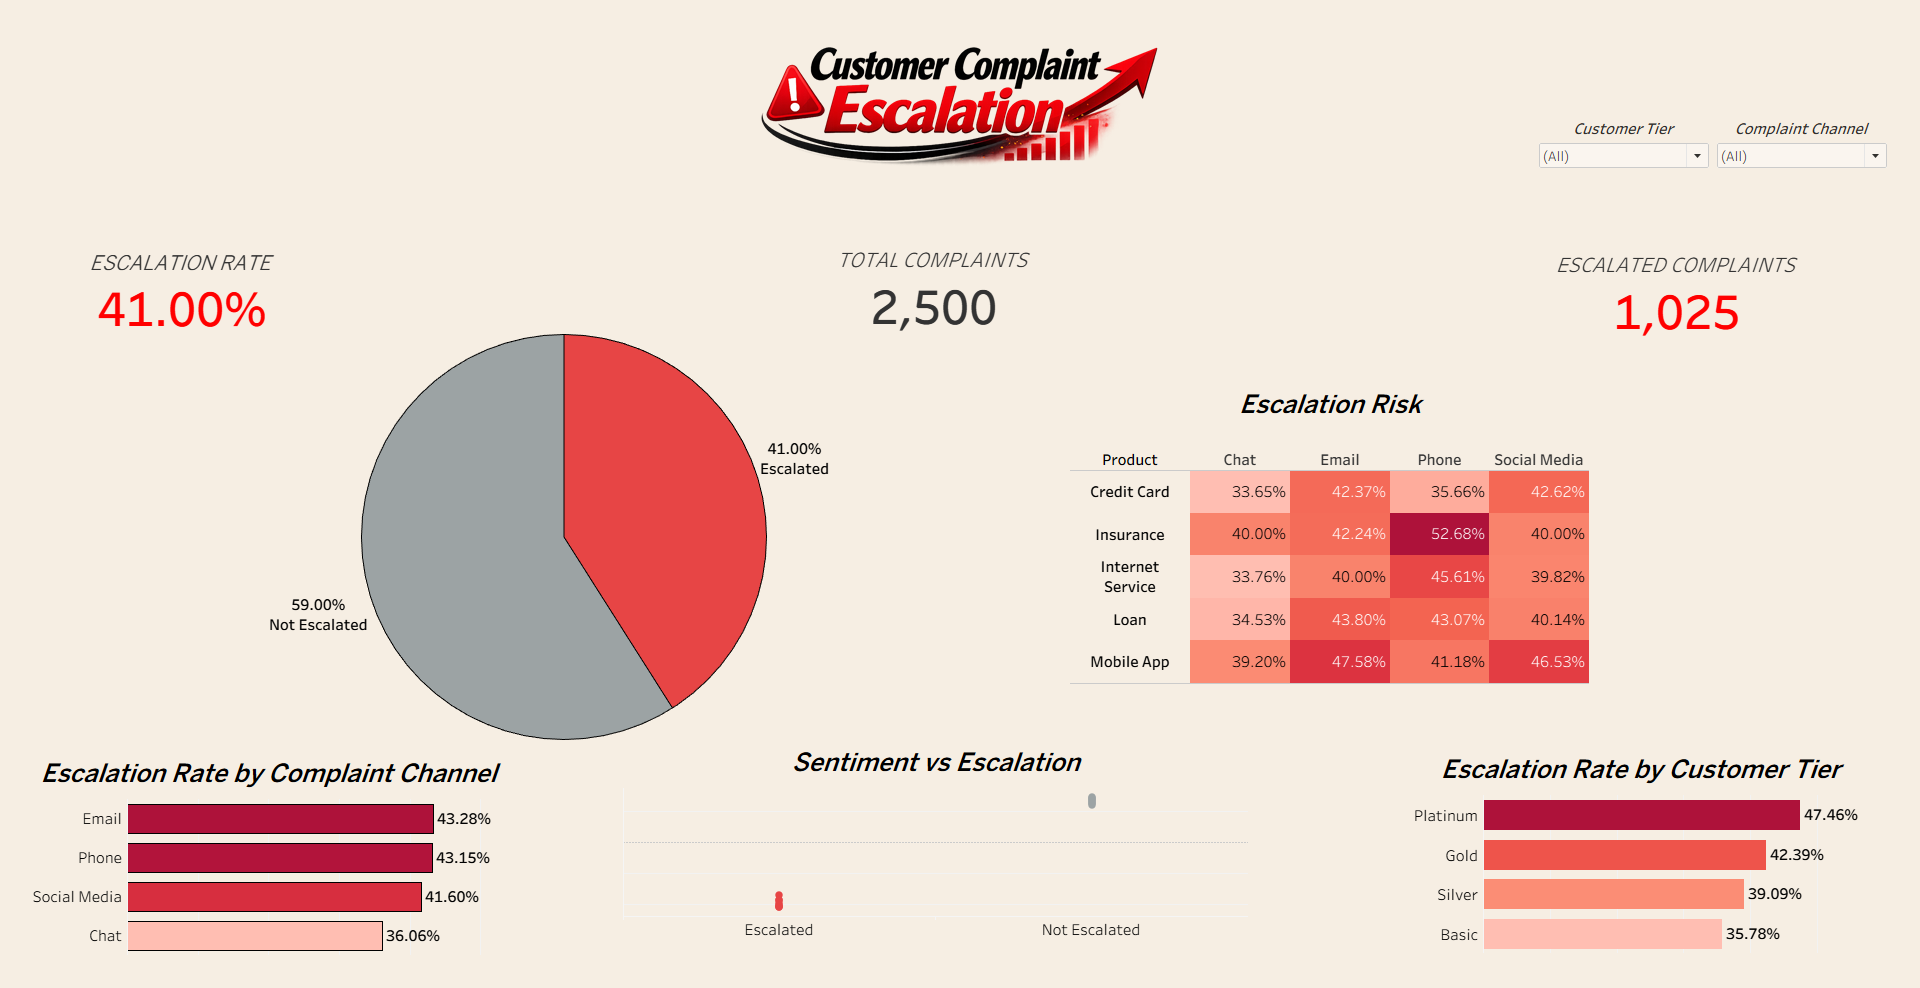

Layout of this report page (visuals, bound fields, positions):
{"tool":"tableau","page":{"name":"Customer Complaint Escalation Dashboard Project Dash","canvas":[1000,1000],"units":"permille","ordinal":0},"visuals":[{"type":"filter","title":"Escalation Risk Heatmap (Advanced)","param":"[federated.0oh2uex11mkp1x1fo4hco1e5lwzo].[none:customer_tier:nk]","box":[800,123.8,91.4,81.2]},{"type":"filter","title":"Escalation Risk Heatmap (Advanced)","param":"[federated.0oh2uex11mkp1x1fo4hco1e5lwzo].[none:complaint_channel:nk]","box":[892.9,123.8,91.4,81.2]},{"type":"worksheet","title":"Escalation Distribution-Pie","mark":"Pie","box":[107.1,181.2,372.9,728.8]},{"type":"worksheet","title":"KPI – Total Complaints","mark":"Text","box":[406.8,223,159.4,153.3]},{"type":"worksheet","title":"KPI – Escalated Count","mark":"Text","box":[781.4,236.2,184.3,135]},{"type":"worksheet","title":"KPI – Escalation Rate","mark":"Text","box":[23.5,245.1,142.4,116.1]},{"type":"worksheet","title":"Escalation Risk Heatmap (Advanced)","mark":"Square","rows":["product"],"cols":["complaint_channel"],"box":[557.1,392.5,270.7,301.2]},{"type":"worksheet","title":"Sentiment Impact","mark":"Circle","rows":["sentiment_score"],"cols":["Calculation_0221852733161472"],"box":[324.3,753.8,325.7,220]},{"type":"worksheet","title":"Escalation by Customer Tier","mark":"Bar","rows":["customer_tier"],"cols":["Calculation_0221852733333505"],"box":[730.7,760,247.1,205]},{"type":"worksheet","title":"Escalation by Channel","mark":"Bar","rows":["complaint_channel"],"cols":["Calculation_0221852733333505"],"box":[13.9,764.2,251.7,202.1]}]}

Visuals, with their boxes on the dashboard's canvas, which has no fixed pixel size, in thousandths of its width and height (x1, y1, x2, y2). These are canvas units, not pixel positions in the 1920x988 screenshot, which may show the page scaled, cropped or inside an application window:
"Escalation Risk Heatmap (Advanced)" filter: {"left": 800, "top": 124, "right": 891, "bottom": 205}
"Escalation Risk Heatmap (Advanced)" filter: {"left": 893, "top": 124, "right": 984, "bottom": 205}
"Escalation Distribution-Pie" worksheet (Pie marks): {"left": 107, "top": 181, "right": 480, "bottom": 910}
"KPI – Total Complaints" worksheet (Text marks): {"left": 407, "top": 223, "right": 566, "bottom": 376}
"KPI – Escalated Count" worksheet (Text marks): {"left": 781, "top": 236, "right": 966, "bottom": 371}
"KPI – Escalation Rate" worksheet (Text marks): {"left": 24, "top": 245, "right": 166, "bottom": 361}
"Escalation Risk Heatmap (Advanced)" worksheet (Square marks): {"left": 557, "top": 392, "right": 828, "bottom": 694}
"Sentiment Impact" worksheet (Circle marks): {"left": 324, "top": 754, "right": 650, "bottom": 974}
"Escalation by Customer Tier" worksheet (Bar marks): {"left": 731, "top": 760, "right": 978, "bottom": 965}
"Escalation by Channel" worksheet (Bar marks): {"left": 14, "top": 764, "right": 266, "bottom": 966}
